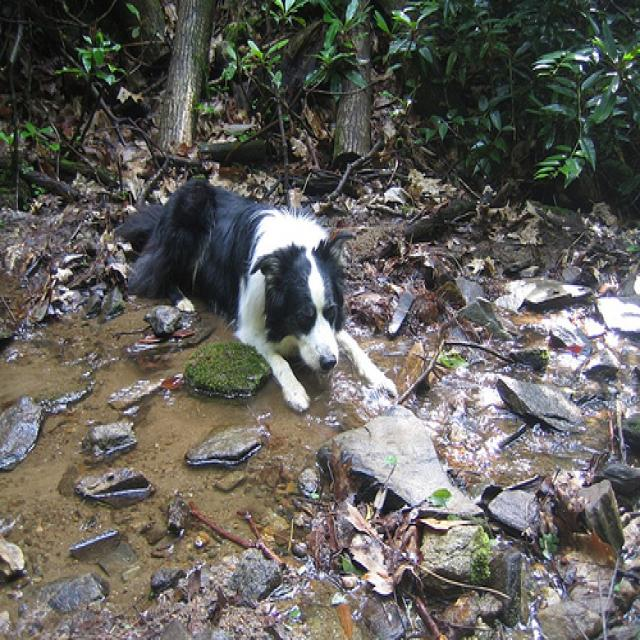dog: (119, 170, 407, 412)
